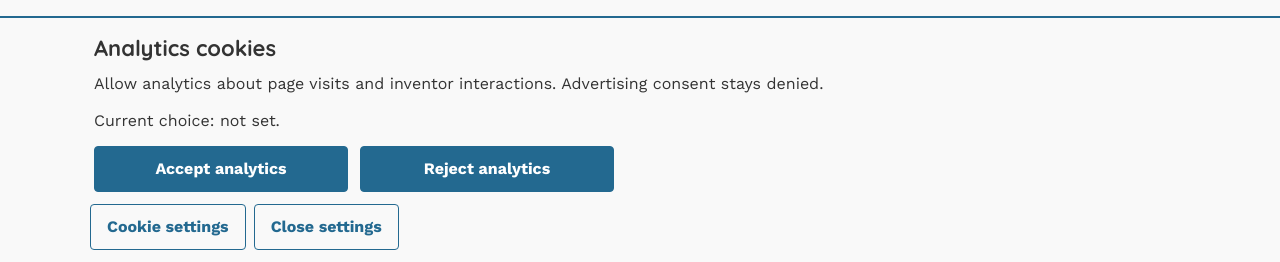
Test: reports a storage failure without hiding the settings control
This screenshot has width=1280, height=262.
Click the button "Accept analytics" at coordinates (221, 169), box left=94, top=146, right=348, bottom=192
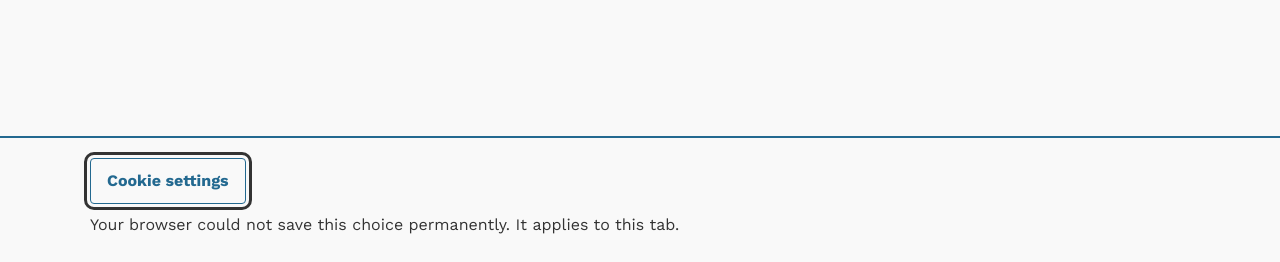
Expected: the button "Cookie settings" is shown, left=90, top=158, right=246, bottom=204
Result: the message shows "could not save" at left=90, top=215, right=679, bottom=234
